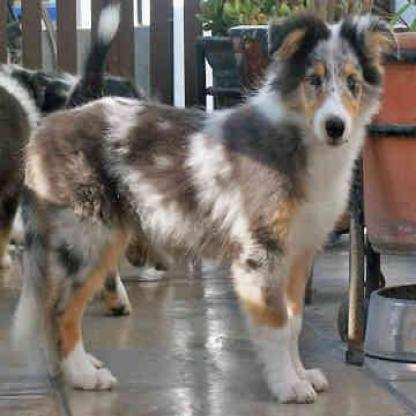collie: (14, 11, 399, 405)
